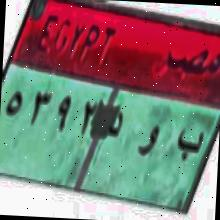2: (76, 87, 96, 142)
3: (28, 84, 52, 133)
5: (2, 81, 24, 122)
9: (54, 86, 73, 138)
baa: (173, 121, 206, 168)
daal: (104, 96, 125, 150)
waw: (134, 116, 162, 164)
